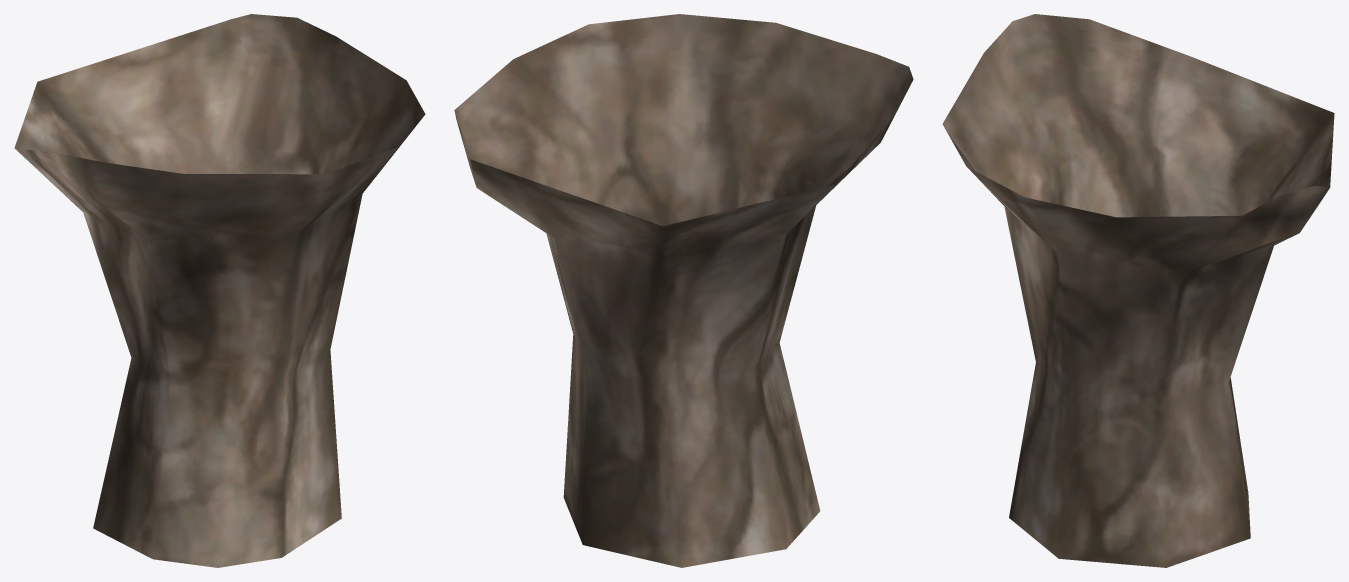
Rendered from EKH_JAIL_PS_JA_PILLAR9383866.fbx.
The picture shows the model from 3 angles, left to right: view 1: azimuth 30°, elevation 25°; view 2: azimuth 150°, elevation 25°; view 3: azimuth 270°, elevation 25°; orthographic projection. The views are drawn at different scales.
Parts seen in each view (by area): view 1: EKH_JAIL_PS_JA_PILLAR9383866; view 2: EKH_JAIL_PS_JA_PILLAR9383866; view 3: EKH_JAIL_PS_JA_PILLAR9383866.
Boxes of the visible parts, <box> form: EKH_JAIL_PS_JA_PILLAR9383866: <box>14,14,425,567</box>; EKH_JAIL_PS_JA_PILLAR9383866: <box>454,14,913,567</box>; EKH_JAIL_PS_JA_PILLAR9383866: <box>942,14,1334,567</box>.
Bounding box in the file's own units: 24674 × 27978 × 23575.
1 material, 1 textured.
